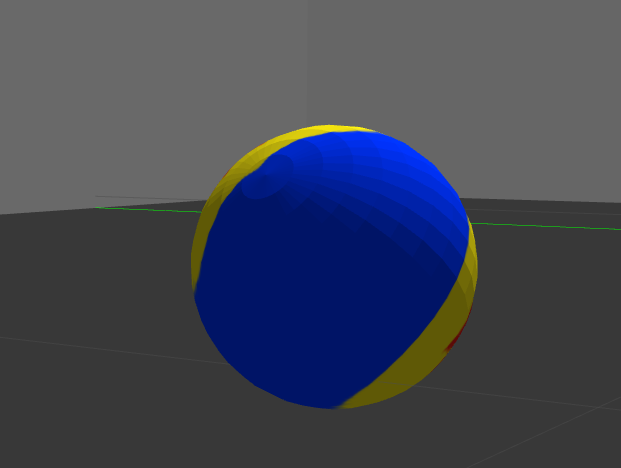toy story ball: (191, 124, 478, 408)
